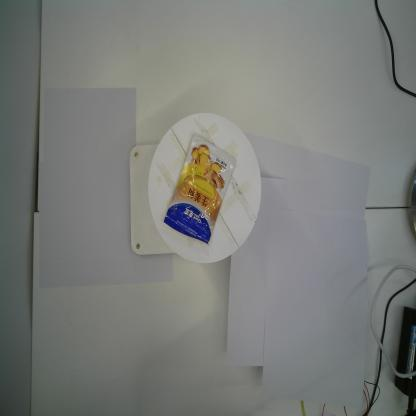Seasoner: (163, 133, 237, 246)
